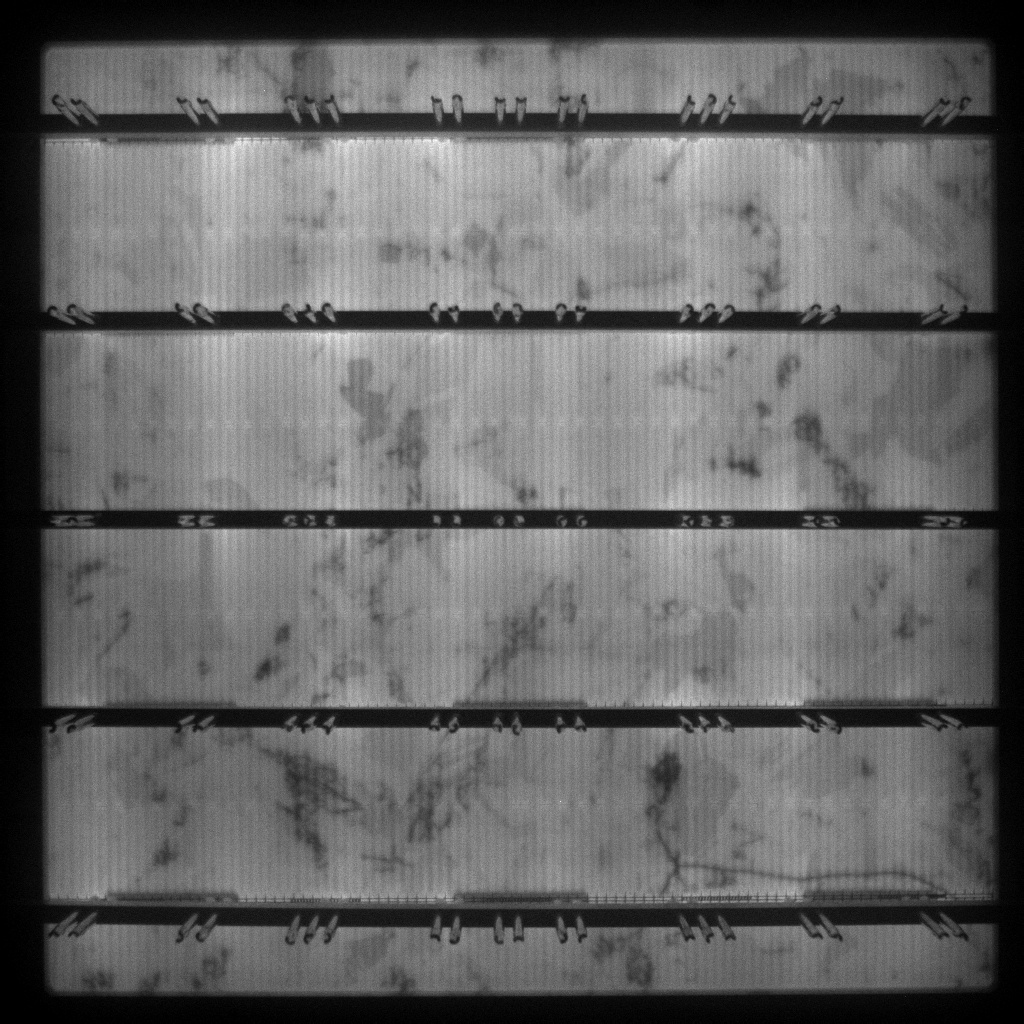crack: (648, 827, 949, 889)
